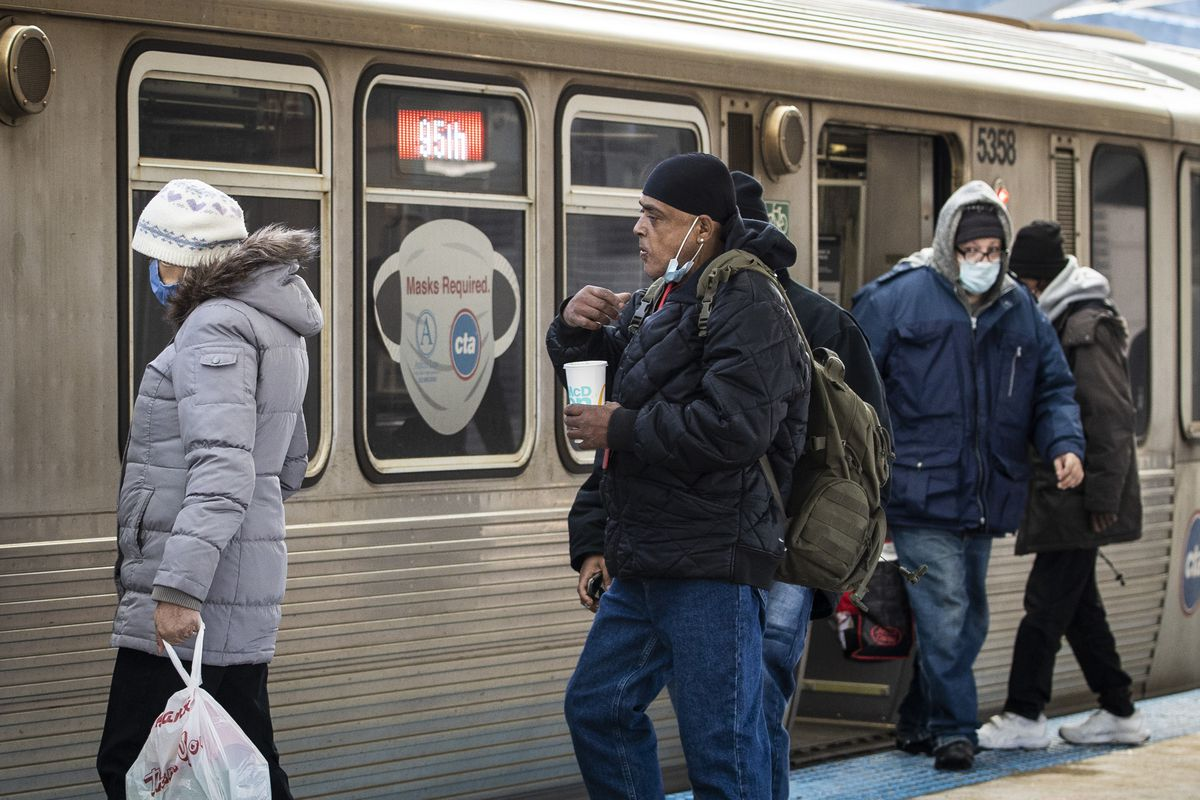with_incorrect_mask: (629, 191, 707, 292)
with_mask: (138, 243, 200, 312), (957, 236, 1002, 297)
